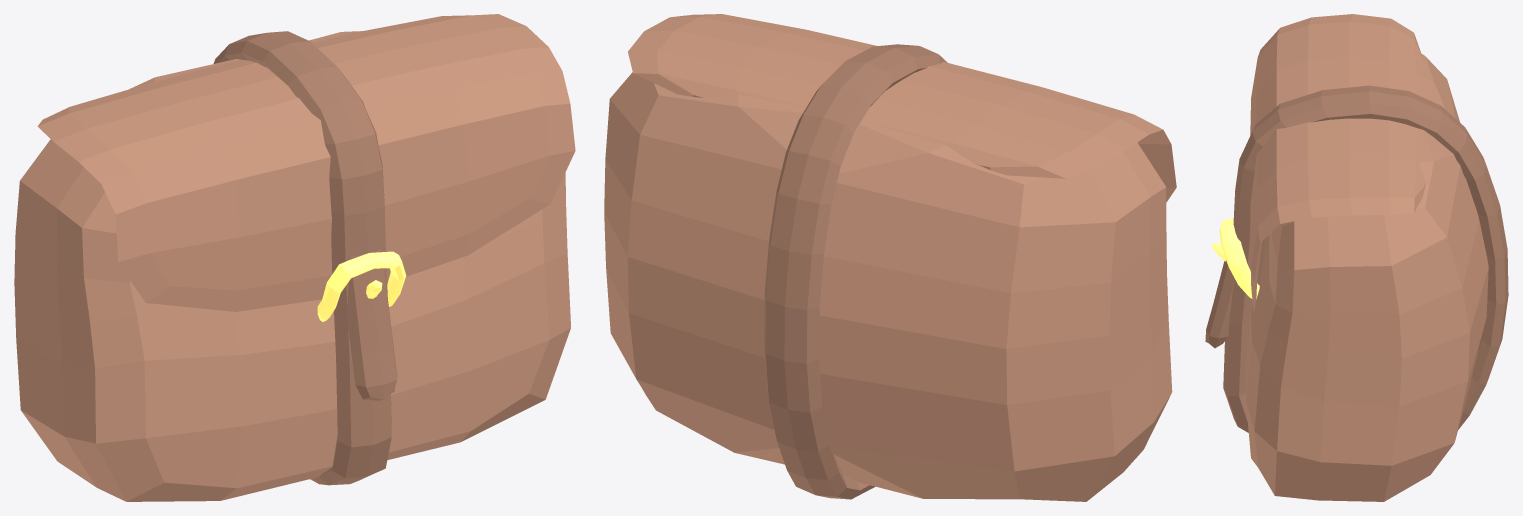
File: bag.glb
3 renders of one model, left to right at view 1: azimuth 30°, elevation 25°; view 2: azimuth 150°, elevation 25°; view 3: azimuth 270°, elevation 25°, orthographic. The views are drawn at different scales.
Visible parts, largest first — view 1: Bag; view 2: Bag; view 3: Bag.
Part boxes in pixels (box(x1,y1,x2,y2)): Bag: box(14, 14, 575, 501); Bag: box(604, 14, 1176, 501); Bag: box(1205, 14, 1508, 501).
Size of the model in its own units: 80.17 by 62.74 by 48.67.
